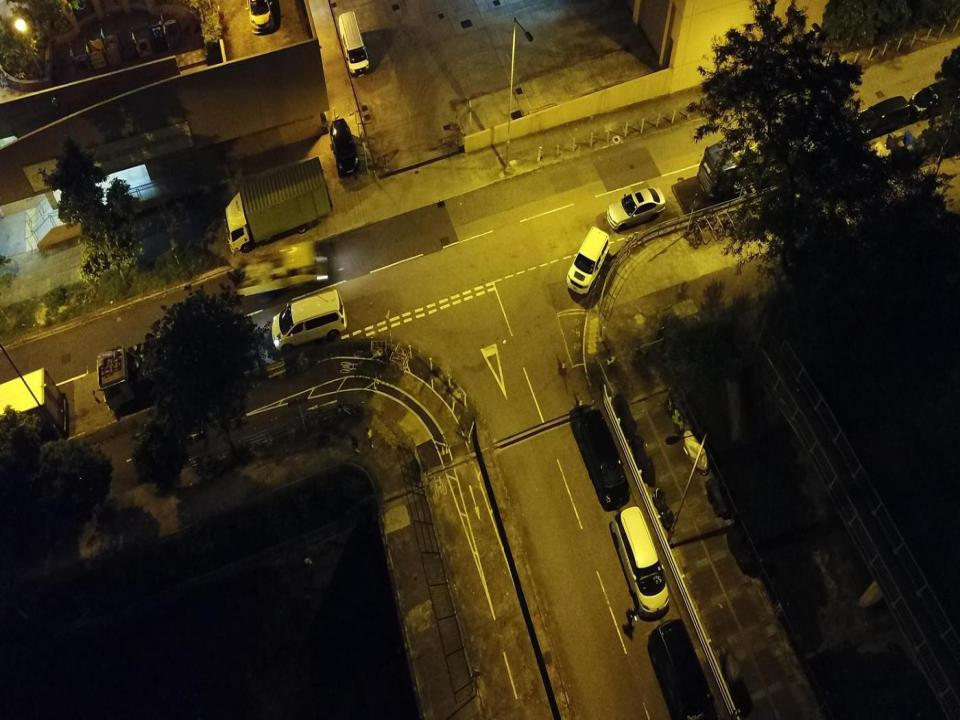car: (611, 505, 669, 616), (577, 408, 630, 509), (566, 226, 610, 294), (606, 187, 666, 231), (909, 79, 957, 119), (330, 118, 361, 177), (244, 0, 275, 35)
truck: (92, 324, 229, 414), (224, 155, 333, 254), (697, 119, 829, 200)
van: (648, 618, 716, 719), (270, 288, 348, 352), (856, 94, 912, 136), (338, 9, 371, 79)
